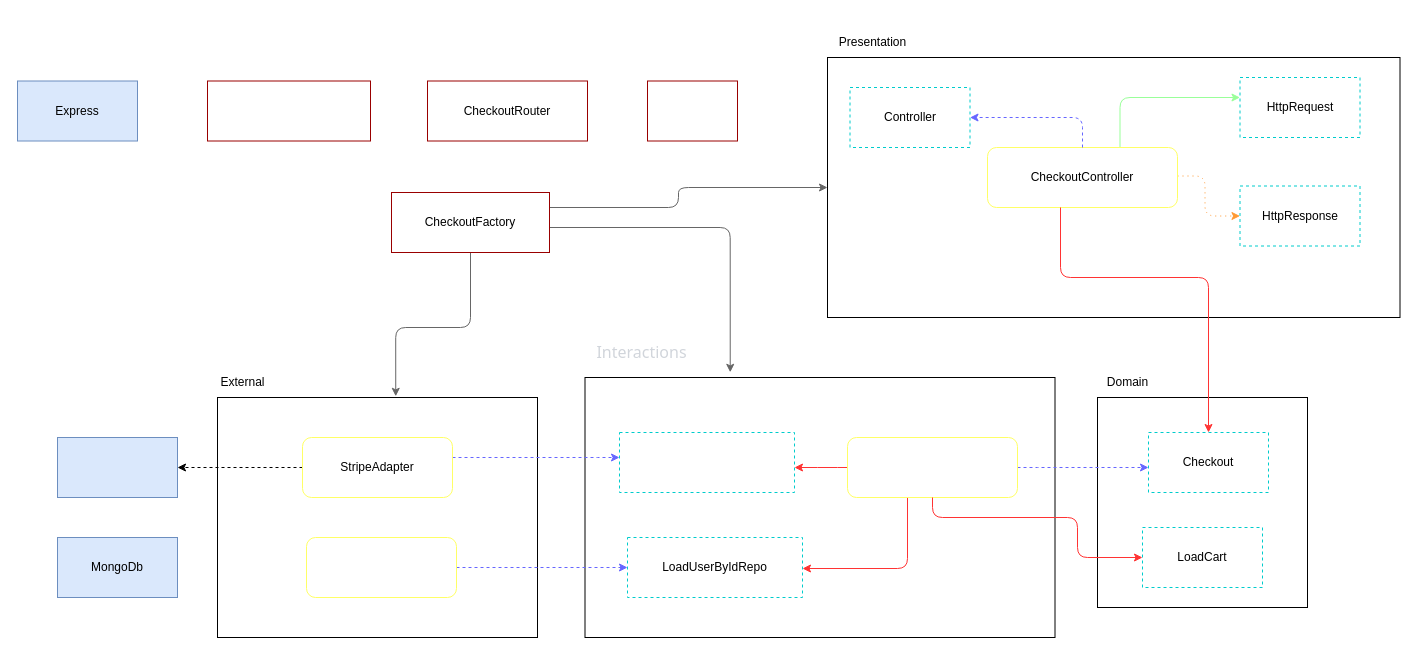
This 1418x655 diagram has some shape labels left out. Each missing label, with the centre of its shape:
"App" goes at point (692, 110).
"CheckoutGateway" goes at point (706, 462).
"CheckoutUseCase" goes at point (932, 467).
"ExpressRouterAdapter" goes at point (288, 110).
"Stripe" goes at point (117, 467).
"UserMongoRepo" goes at point (381, 567).
